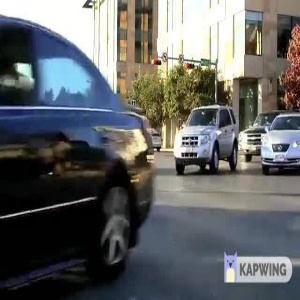car: (257, 111, 300, 178)
suv: (169, 102, 242, 174)
